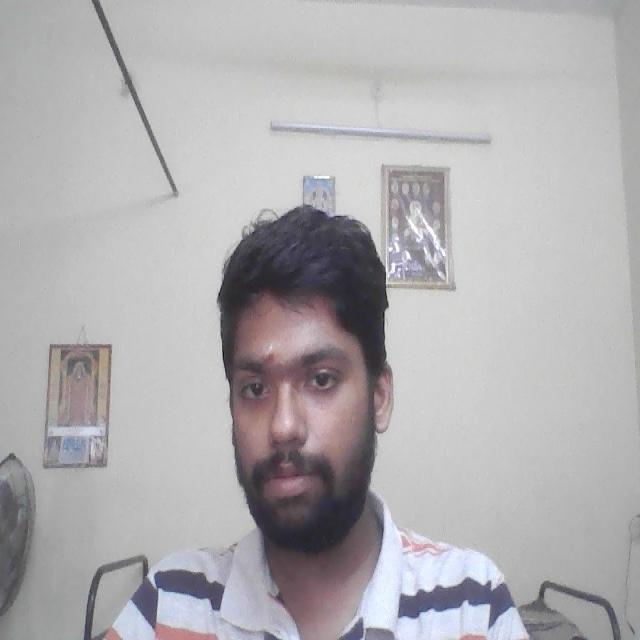Focused: (226, 327, 362, 508)
